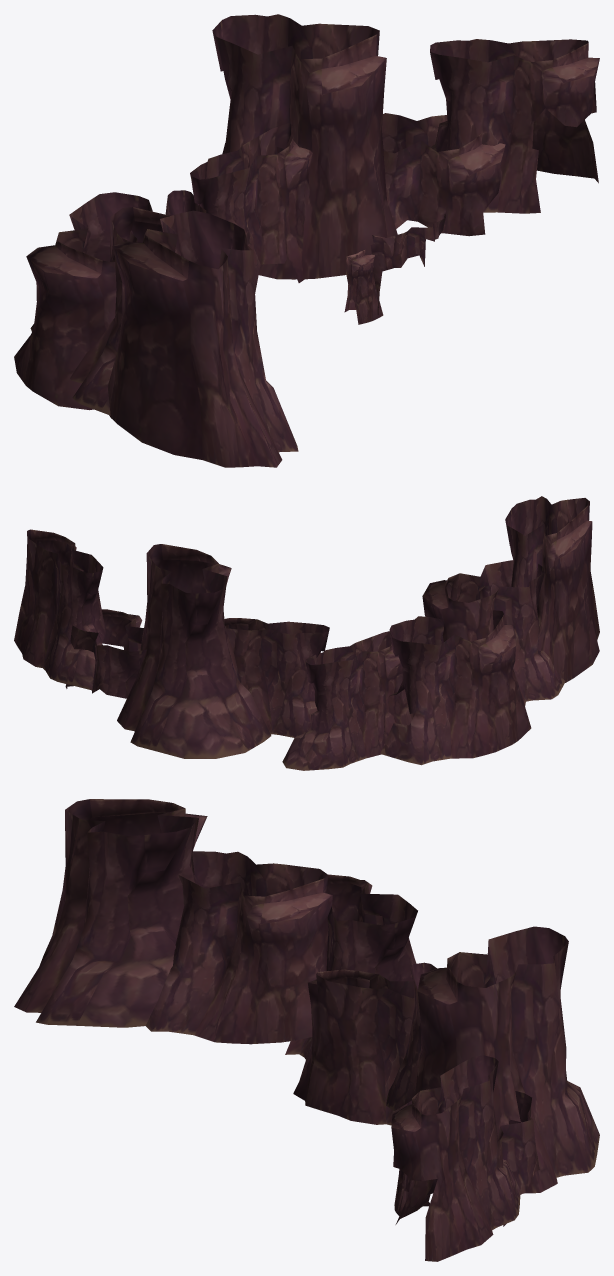
File: area3_shiqiang_03.FBX
3 renders of one model, top to bottom at view 1: azimuth 30°, elevation 25°; view 2: azimuth 150°, elevation 25°; view 3: azimuth 270°, elevation 25°, orthographic. The views are drawn at different scales.
Visible parts, largest first — view 1: area3_shiqiang_03; view 2: area3_shiqiang_03; view 3: area3_shiqiang_03.
Boxes of the visible parts, bbox=[...] form: area3_shiqiang_03: bbox=[14, 14, 599, 467]; area3_shiqiang_03: bbox=[14, 496, 599, 770]; area3_shiqiang_03: bbox=[14, 799, 599, 1261].
Bounding box in the file's own units: 7617 × 3038 × 6425.
